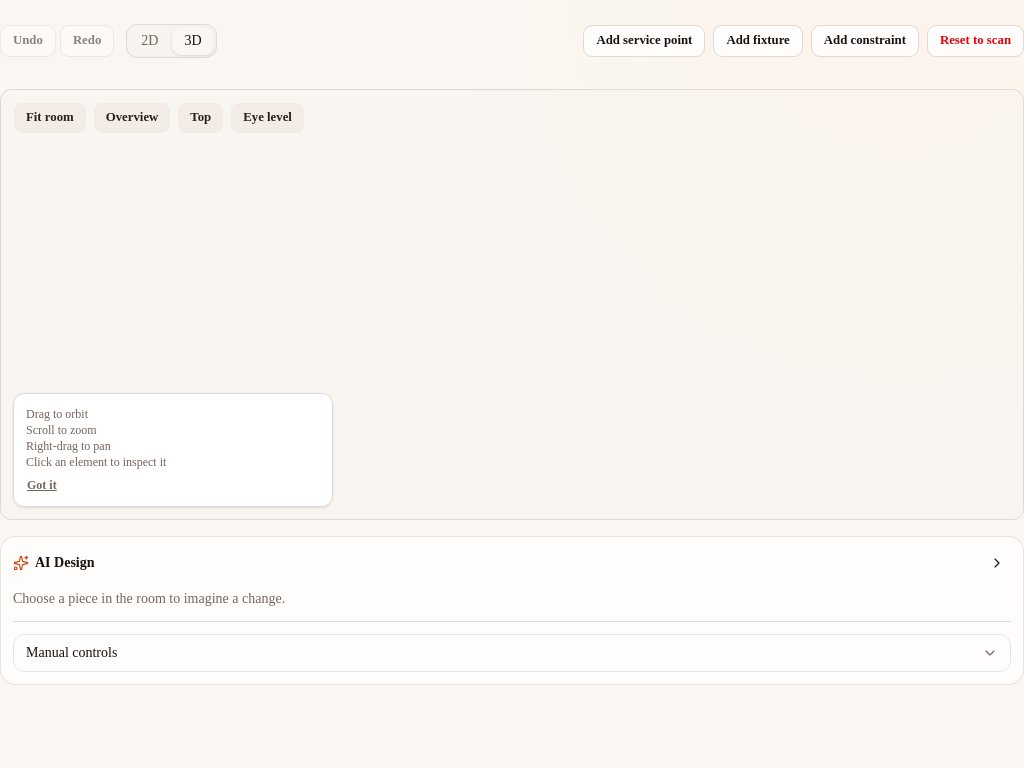
SpatialEditor — Reset-to-Scan › stale revision on reset reloads the latest draft and does not auto-retry
Expected: the picture named "3d room view" is shown, [1,90,301,240]
Click the radio button labelled "2D" at (150, 40), box [129,26,170,54]
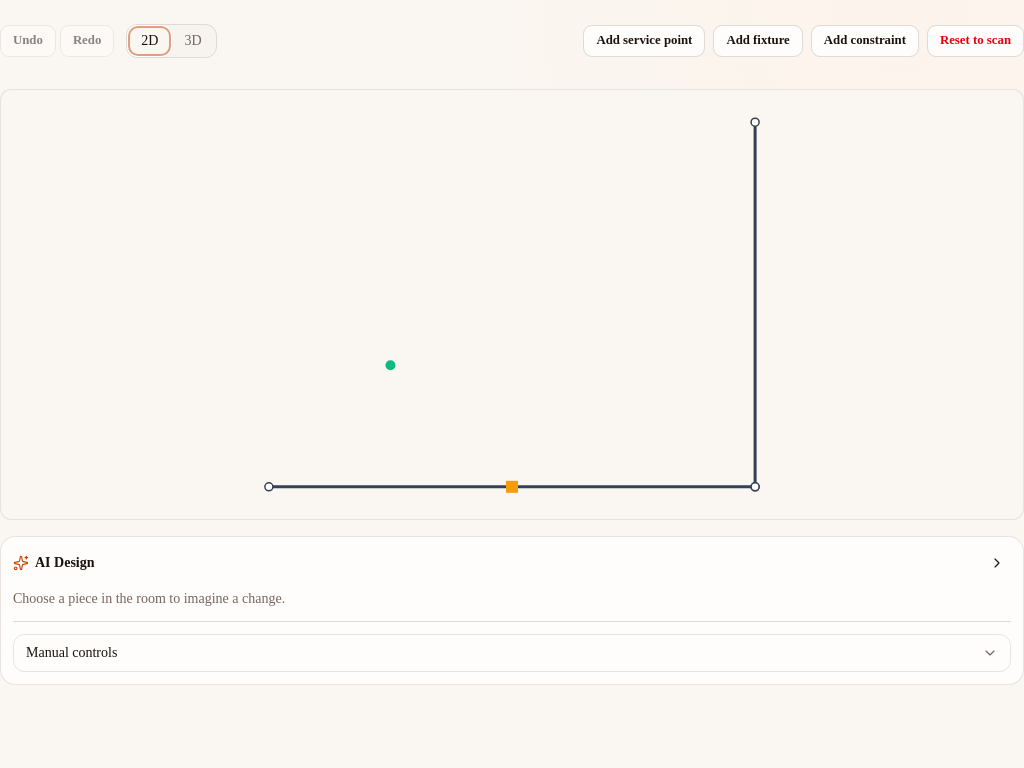
Expected: the picture named "floor plan" is shown, [1,90,1023,519]
Click the button "Reset to scan" at (975, 40), box [927,24,1023,56]
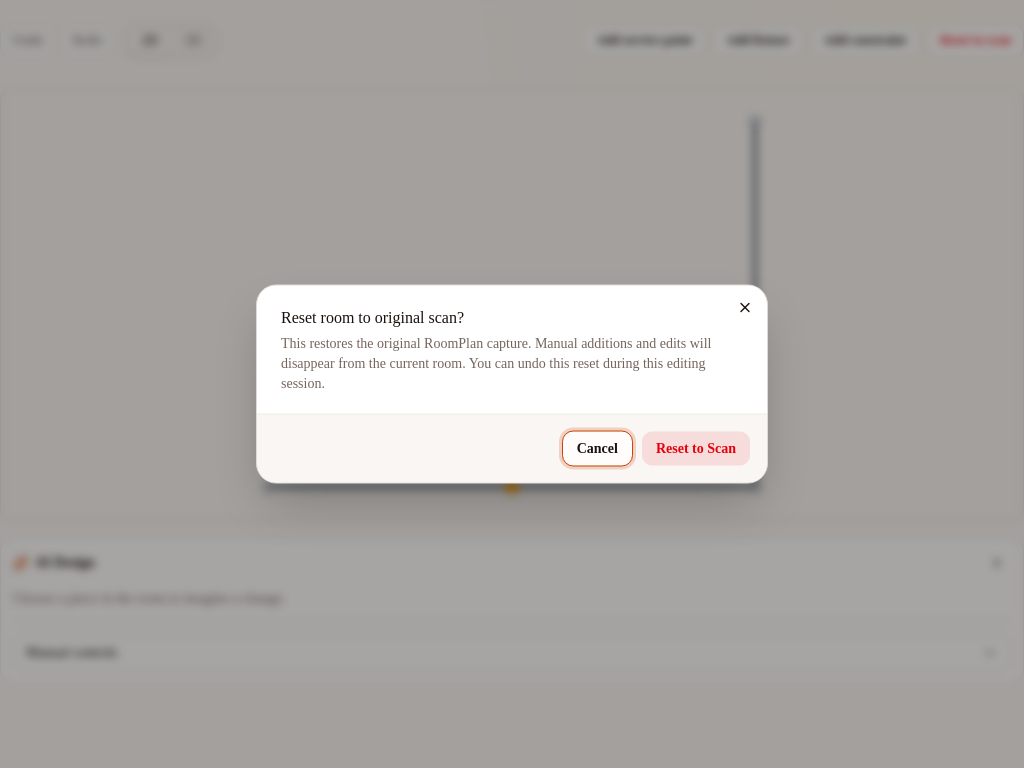
Expected: the text "restores the original RoomPlan capture" is shown, [281,336,711,390]
Click the button "Reset to Scan" at (696, 448), box [641,430,751,466]
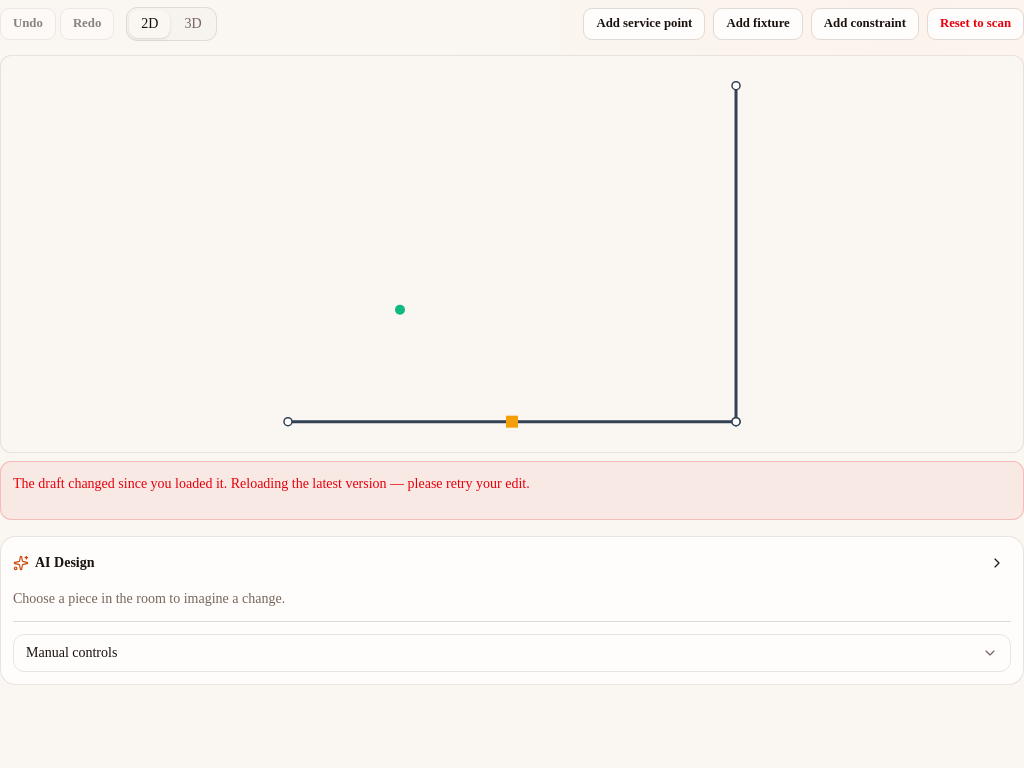
Expected: the text "draft changed" is shown, [13,476,530,491]
